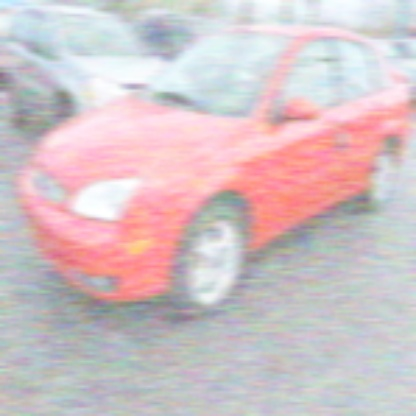Vehicle: (20, 24, 413, 320)
